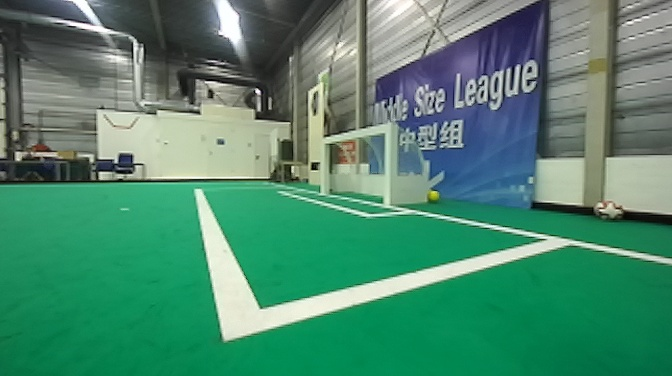ball: (587, 196, 627, 227), (428, 188, 443, 206)
goalpost: (373, 113, 402, 210), (316, 128, 335, 196)
